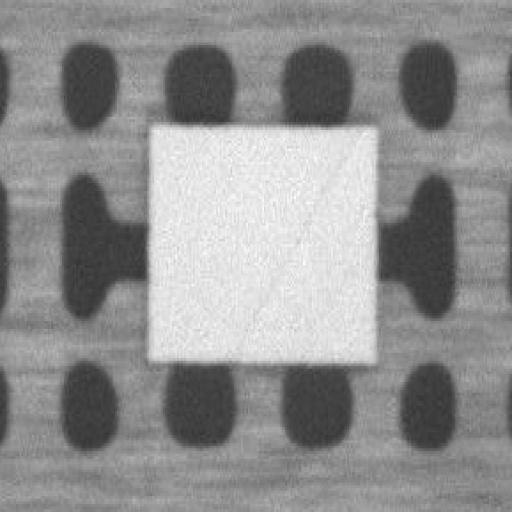DIE_CRACK: (237, 136, 358, 348)
